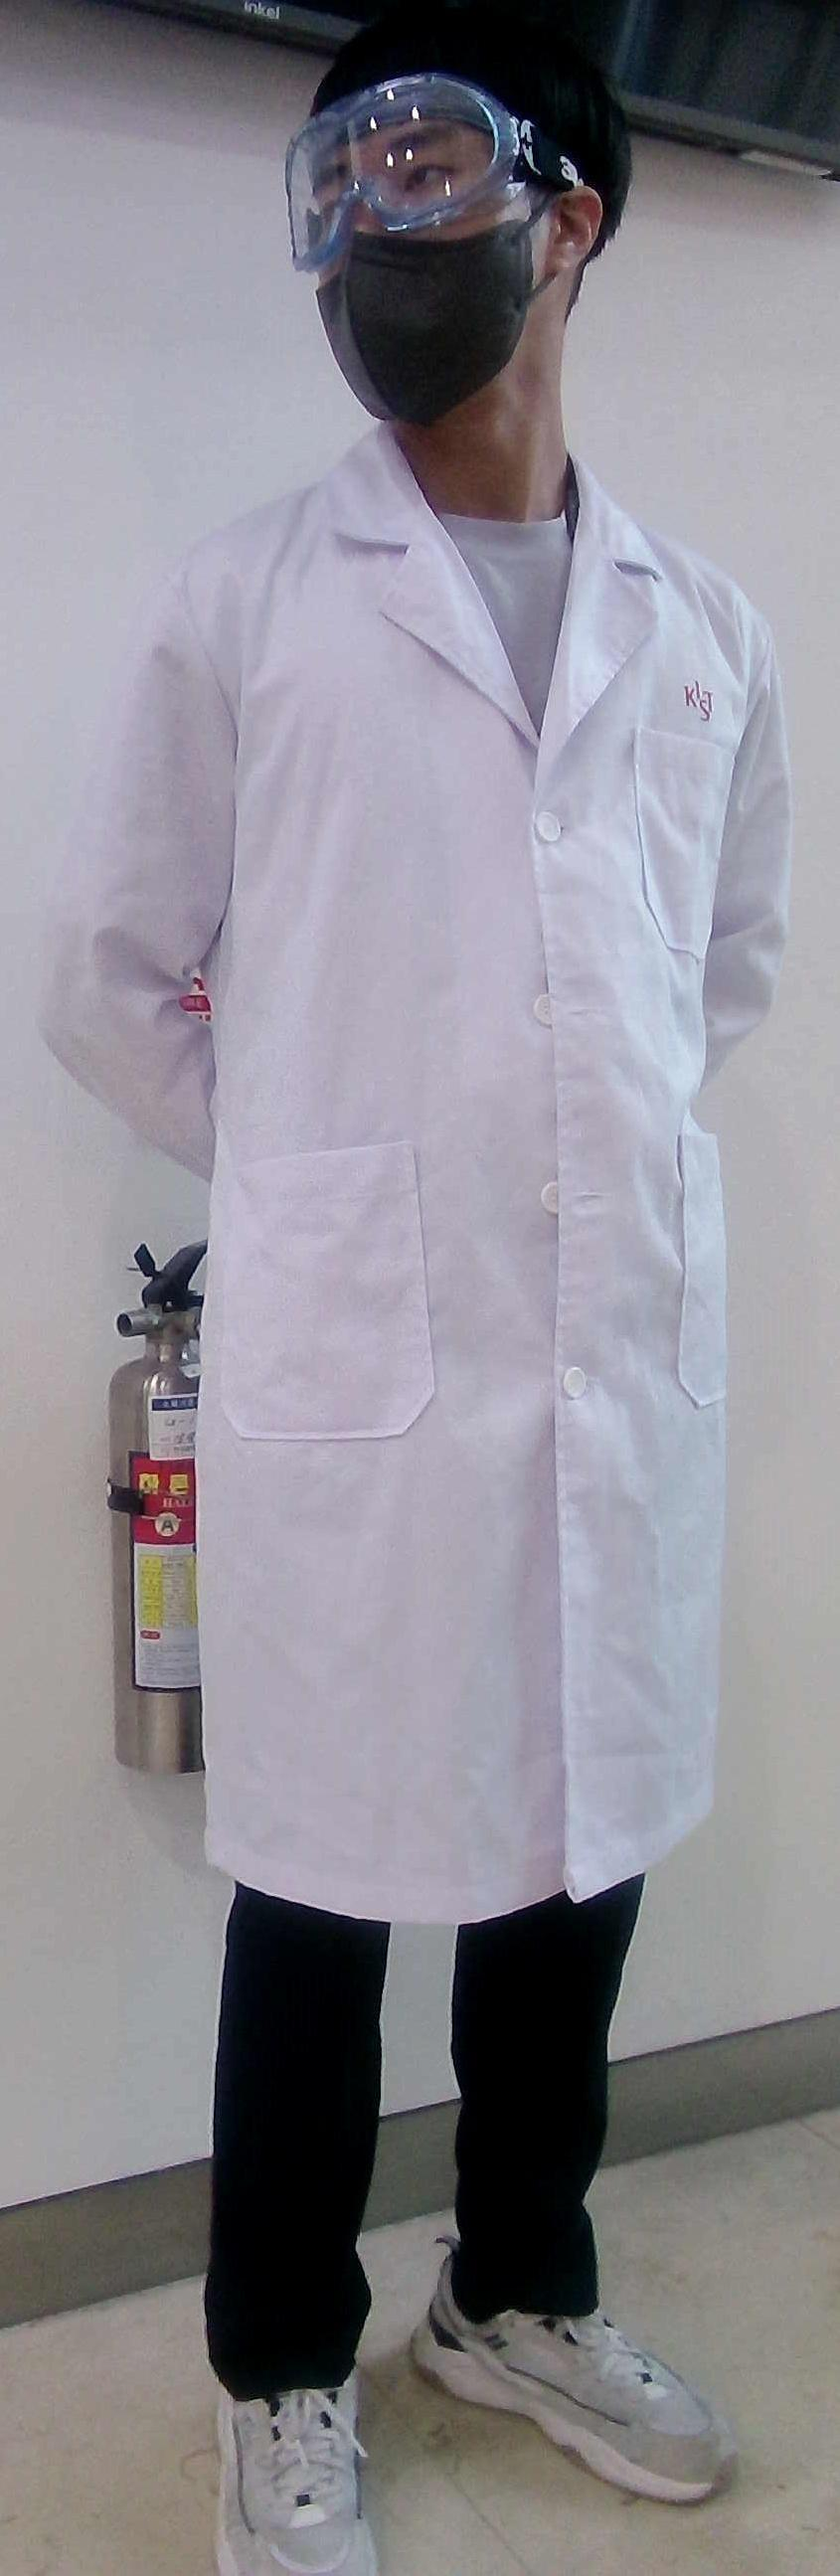lab_coat: (110, 544, 753, 1855)
